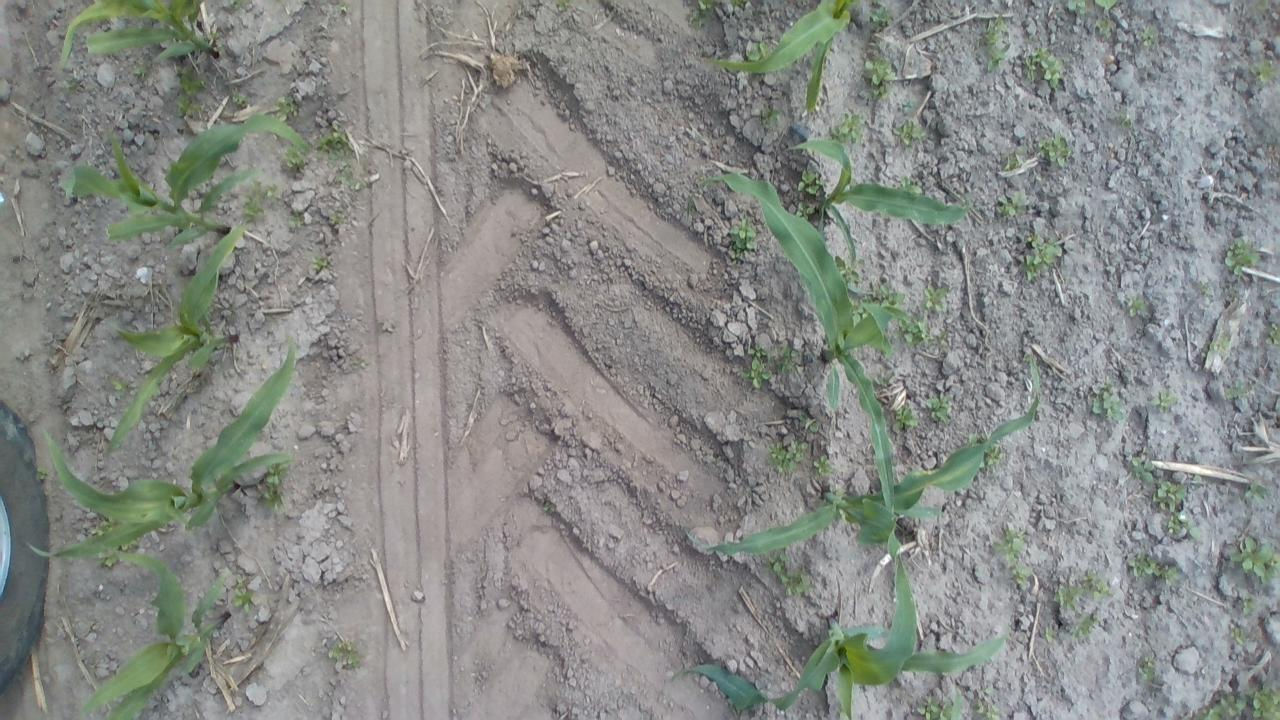Maize: (687, 170, 918, 534), (688, 348, 1042, 568), (31, 325, 310, 566), (664, 554, 1038, 720), (96, 212, 260, 462), (60, 116, 312, 254), (78, 534, 246, 720), (778, 130, 982, 276), (701, 0, 870, 123), (57, 0, 240, 76)
Weeds: (1190, 681, 1280, 720), (1226, 530, 1278, 584), (92, 516, 143, 568), (761, 547, 810, 599), (1016, 232, 1068, 280), (1080, 378, 1130, 425), (1124, 548, 1182, 588), (170, 67, 212, 122), (1065, 0, 1120, 39), (976, 11, 1011, 72), (1222, 231, 1261, 285), (1018, 38, 1056, 90), (721, 217, 762, 265), (242, 176, 280, 226), (914, 685, 966, 720), (794, 170, 829, 221), (313, 125, 361, 162), (859, 57, 899, 100), (1034, 130, 1076, 170), (261, 461, 292, 514), (990, 522, 1030, 562), (826, 109, 868, 146), (1066, 608, 1110, 642), (324, 635, 366, 670), (768, 439, 807, 476), (334, 159, 374, 194), (1165, 507, 1201, 545), (992, 185, 1032, 217), (919, 391, 954, 426), (972, 432, 1006, 468), (888, 116, 925, 149), (1120, 449, 1154, 484), (898, 318, 933, 352), (276, 142, 316, 171), (1242, 476, 1277, 509), (740, 356, 773, 391), (1149, 384, 1181, 420), (774, 343, 804, 379), (1080, 570, 1114, 601), (1004, 560, 1035, 594), (1152, 479, 1186, 508), (973, 689, 1004, 720), (890, 400, 921, 431), (687, 0, 720, 29), (921, 284, 950, 316), (1054, 581, 1088, 608), (1245, 54, 1280, 80), (744, 32, 774, 62), (1000, 145, 1029, 176), (835, 259, 864, 290), (1134, 654, 1162, 686), (230, 582, 256, 616), (1204, 328, 1236, 354), (862, 6, 896, 30), (274, 92, 302, 121), (57, 75, 92, 97), (811, 454, 838, 481), (346, 348, 374, 374), (850, 296, 874, 326), (1258, 318, 1280, 350), (1121, 294, 1148, 320), (758, 102, 782, 131), (872, 282, 910, 300), (108, 376, 134, 402), (792, 414, 822, 436), (1223, 624, 1249, 649), (225, 84, 252, 108), (1217, 379, 1245, 402), (1134, 24, 1160, 48), (1184, 474, 1208, 497), (933, 324, 954, 350), (220, 0, 256, 15), (1038, 622, 1060, 645), (1239, 597, 1263, 618), (306, 252, 331, 272), (1188, 280, 1215, 298), (1112, 114, 1136, 134), (1248, 0, 1274, 18), (327, 207, 348, 229), (289, 207, 310, 229), (752, 341, 768, 361), (730, 1, 754, 14), (32, 466, 49, 484), (132, 64, 152, 79), (554, 0, 576, 13)
